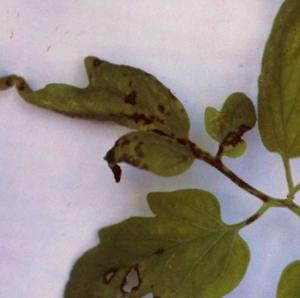Tomato leaf bacterial spot: (0, 39, 219, 202), (62, 156, 269, 298)
